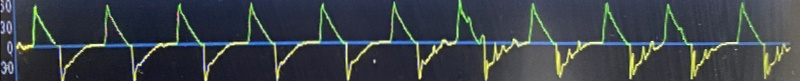hydrop_flow: (410, 0, 800, 81)
normal_flow: (10, 0, 407, 81)
